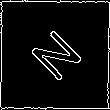N_SE: (23, 23, 87, 87)
